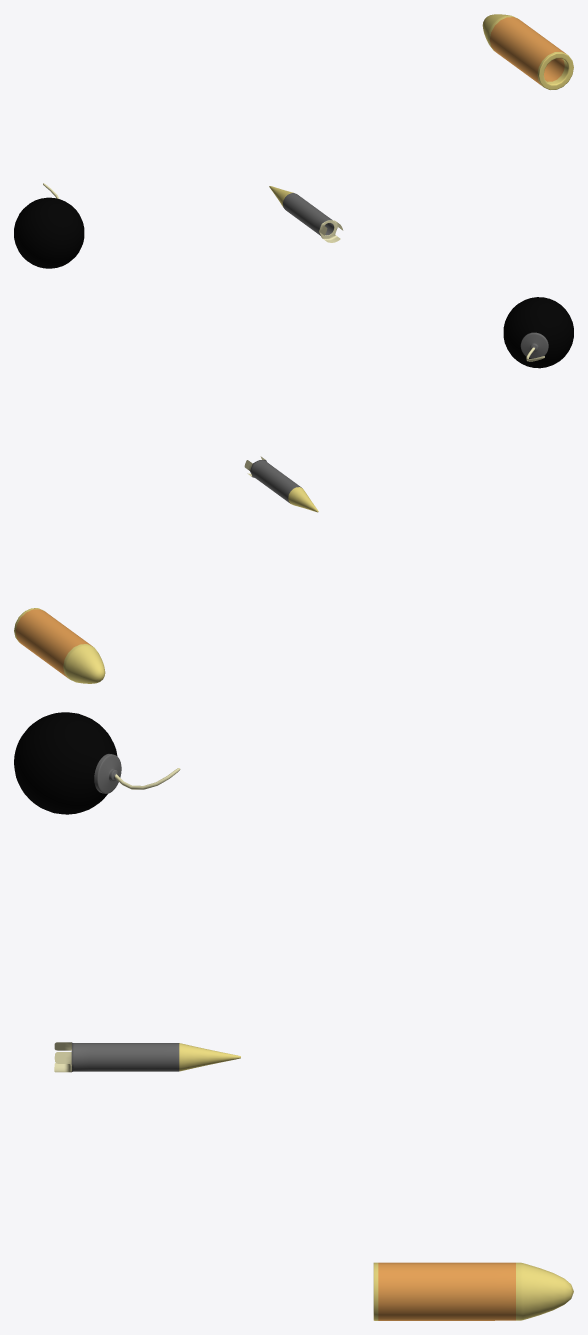
The model's file is Balas.fbx.
3 views of the same model, one above another, from view 1: azimuth 30°, elevation 25°; view 2: azimuth 210°, elevation 25°; view 3: azimuth 270°, elevation 25° (orthographic). The views are drawn at different scales.
Visible parts, largest first — view 1: Sphere, Cylinder, Cylinder.001; view 2: Sphere, Cylinder, Cylinder.001; view 3: Cylinder, Sphere, Cylinder.001.
Part boxes in pixels (x1,y1,x2,y2): Sphere: (14,183,84,268); Cylinder: (482,14,573,89); Cylinder.001: (269,186,343,242); Sphere: (503,297,573,368); Cylinder: (14,608,105,683); Cylinder.001: (244,456,318,512); Cylinder: (373,1262,573,1320); Sphere: (14,712,180,814); Cylinder.001: (54,1042,240,1072).
Bounding box in the file's own units: 521 × 87.54 × 264.
